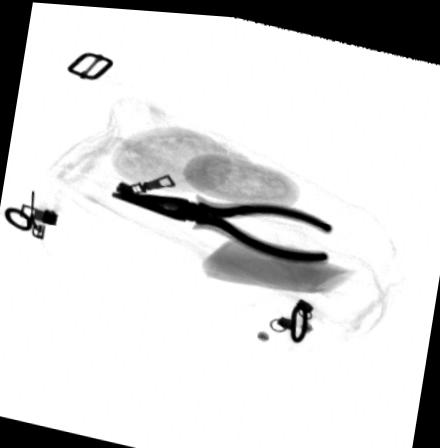Pliers: (109, 187, 334, 262)
